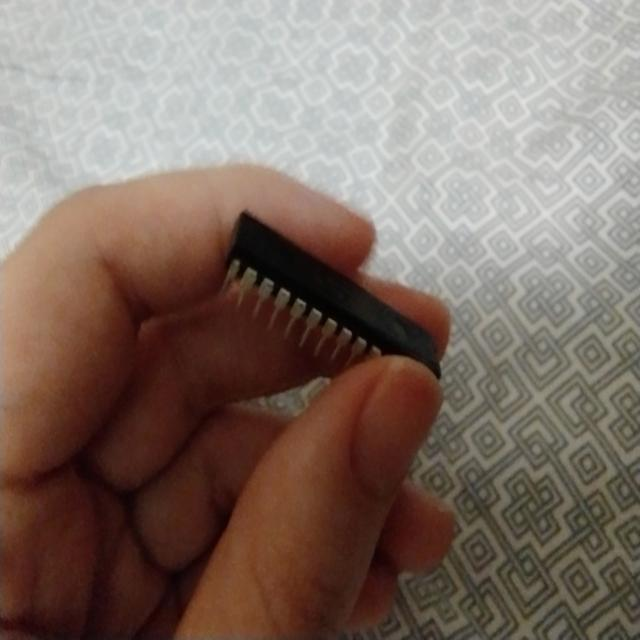atmega: (215, 207, 444, 420)
